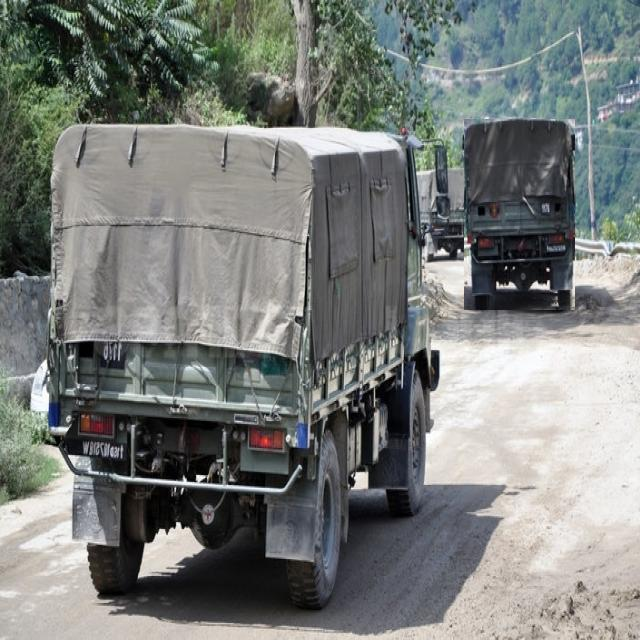truck: (49, 125, 440, 608), (464, 120, 575, 310)
